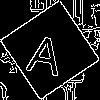A: (25, 25, 68, 77)
